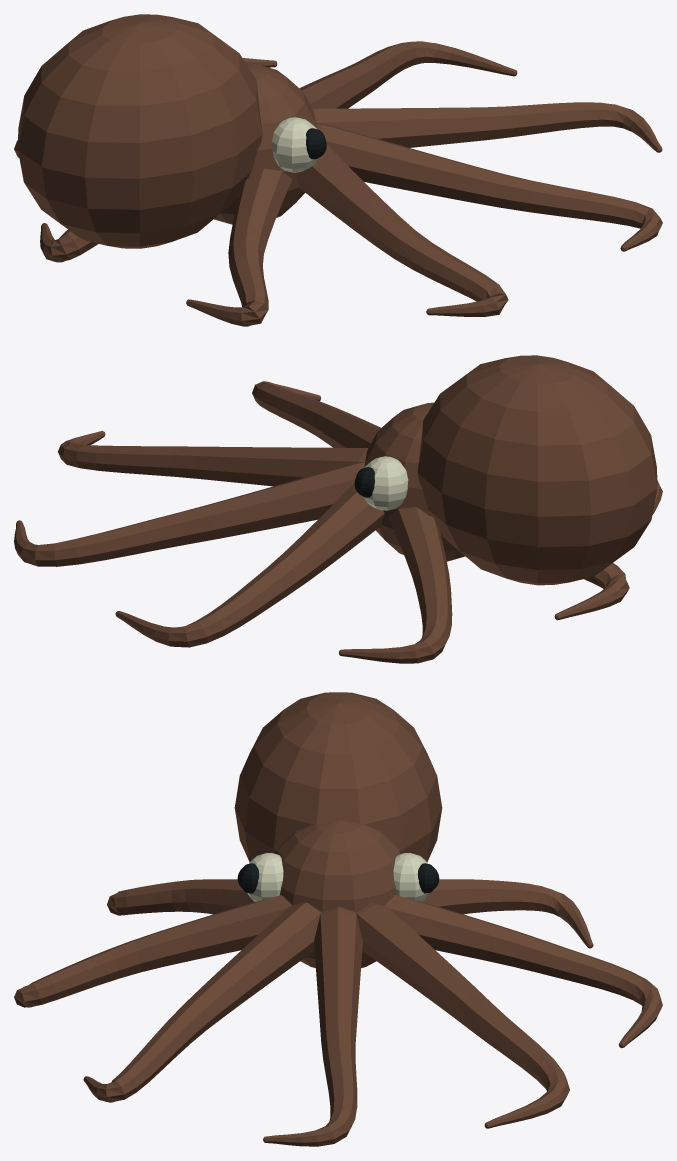
The model's file is common-octopus.dae.
3 renders of one model, top to bottom at view 1: azimuth 30°, elevation 25°; view 2: azimuth 150°, elevation 25°; view 3: azimuth 270°, elevation 25°, orthographic. The views are drawn at different scales.
Parts seen in each view (by area): view 1: part2-node, part1-node, part0-node; view 2: part2-node, part1-node, part0-node; view 3: part2-node, part1-node, part0-node.
Boxes of the visible parts, left/top/right/bottom form: part2-node: left=14, top=14, right=662, bottom=326; part1-node: left=272, top=117, right=317, bottom=172; part0-node: left=306, top=128, right=326, bottom=159; part2-node: left=14, top=355, right=662, bottom=663; part1-node: left=363, top=456, right=408, bottom=510; part0-node: left=354, top=467, right=374, bottom=497; part2-node: left=14, top=692, right=662, bottom=1146; part1-node: left=247, top=853, right=429, bottom=901; part0-node: left=237, top=863, right=439, bottom=893.
Size of the model in its own units: 1.1 by 1.06 by 0.3846.
